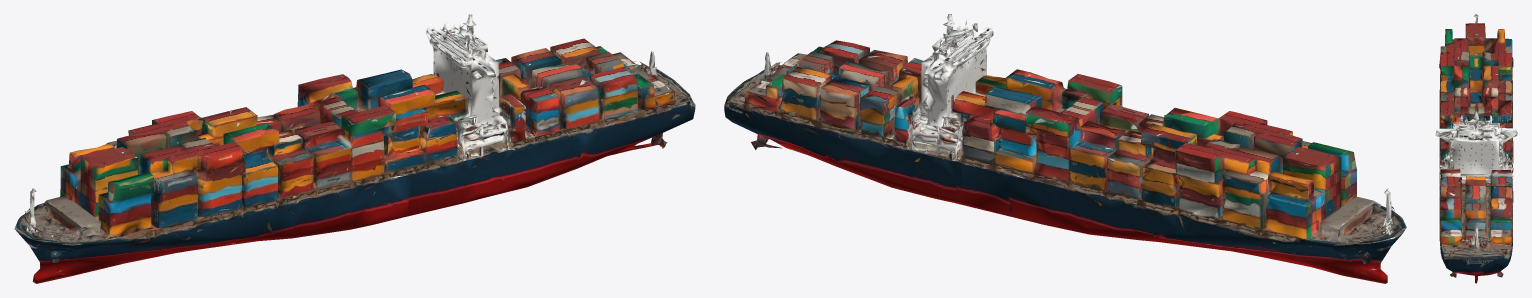
The model's file is kapal.glb.
3 renders of one model, left to right at view 1: azimuth 30°, elevation 25°; view 2: azimuth 150°, elevation 25°; view 3: azimuth 270°, elevation 25°, orthographic. The views are drawn at different scales.
Size of the model in its own units: 1.9 by 0.4557 by 0.3098.
1 material, 1 textured.
